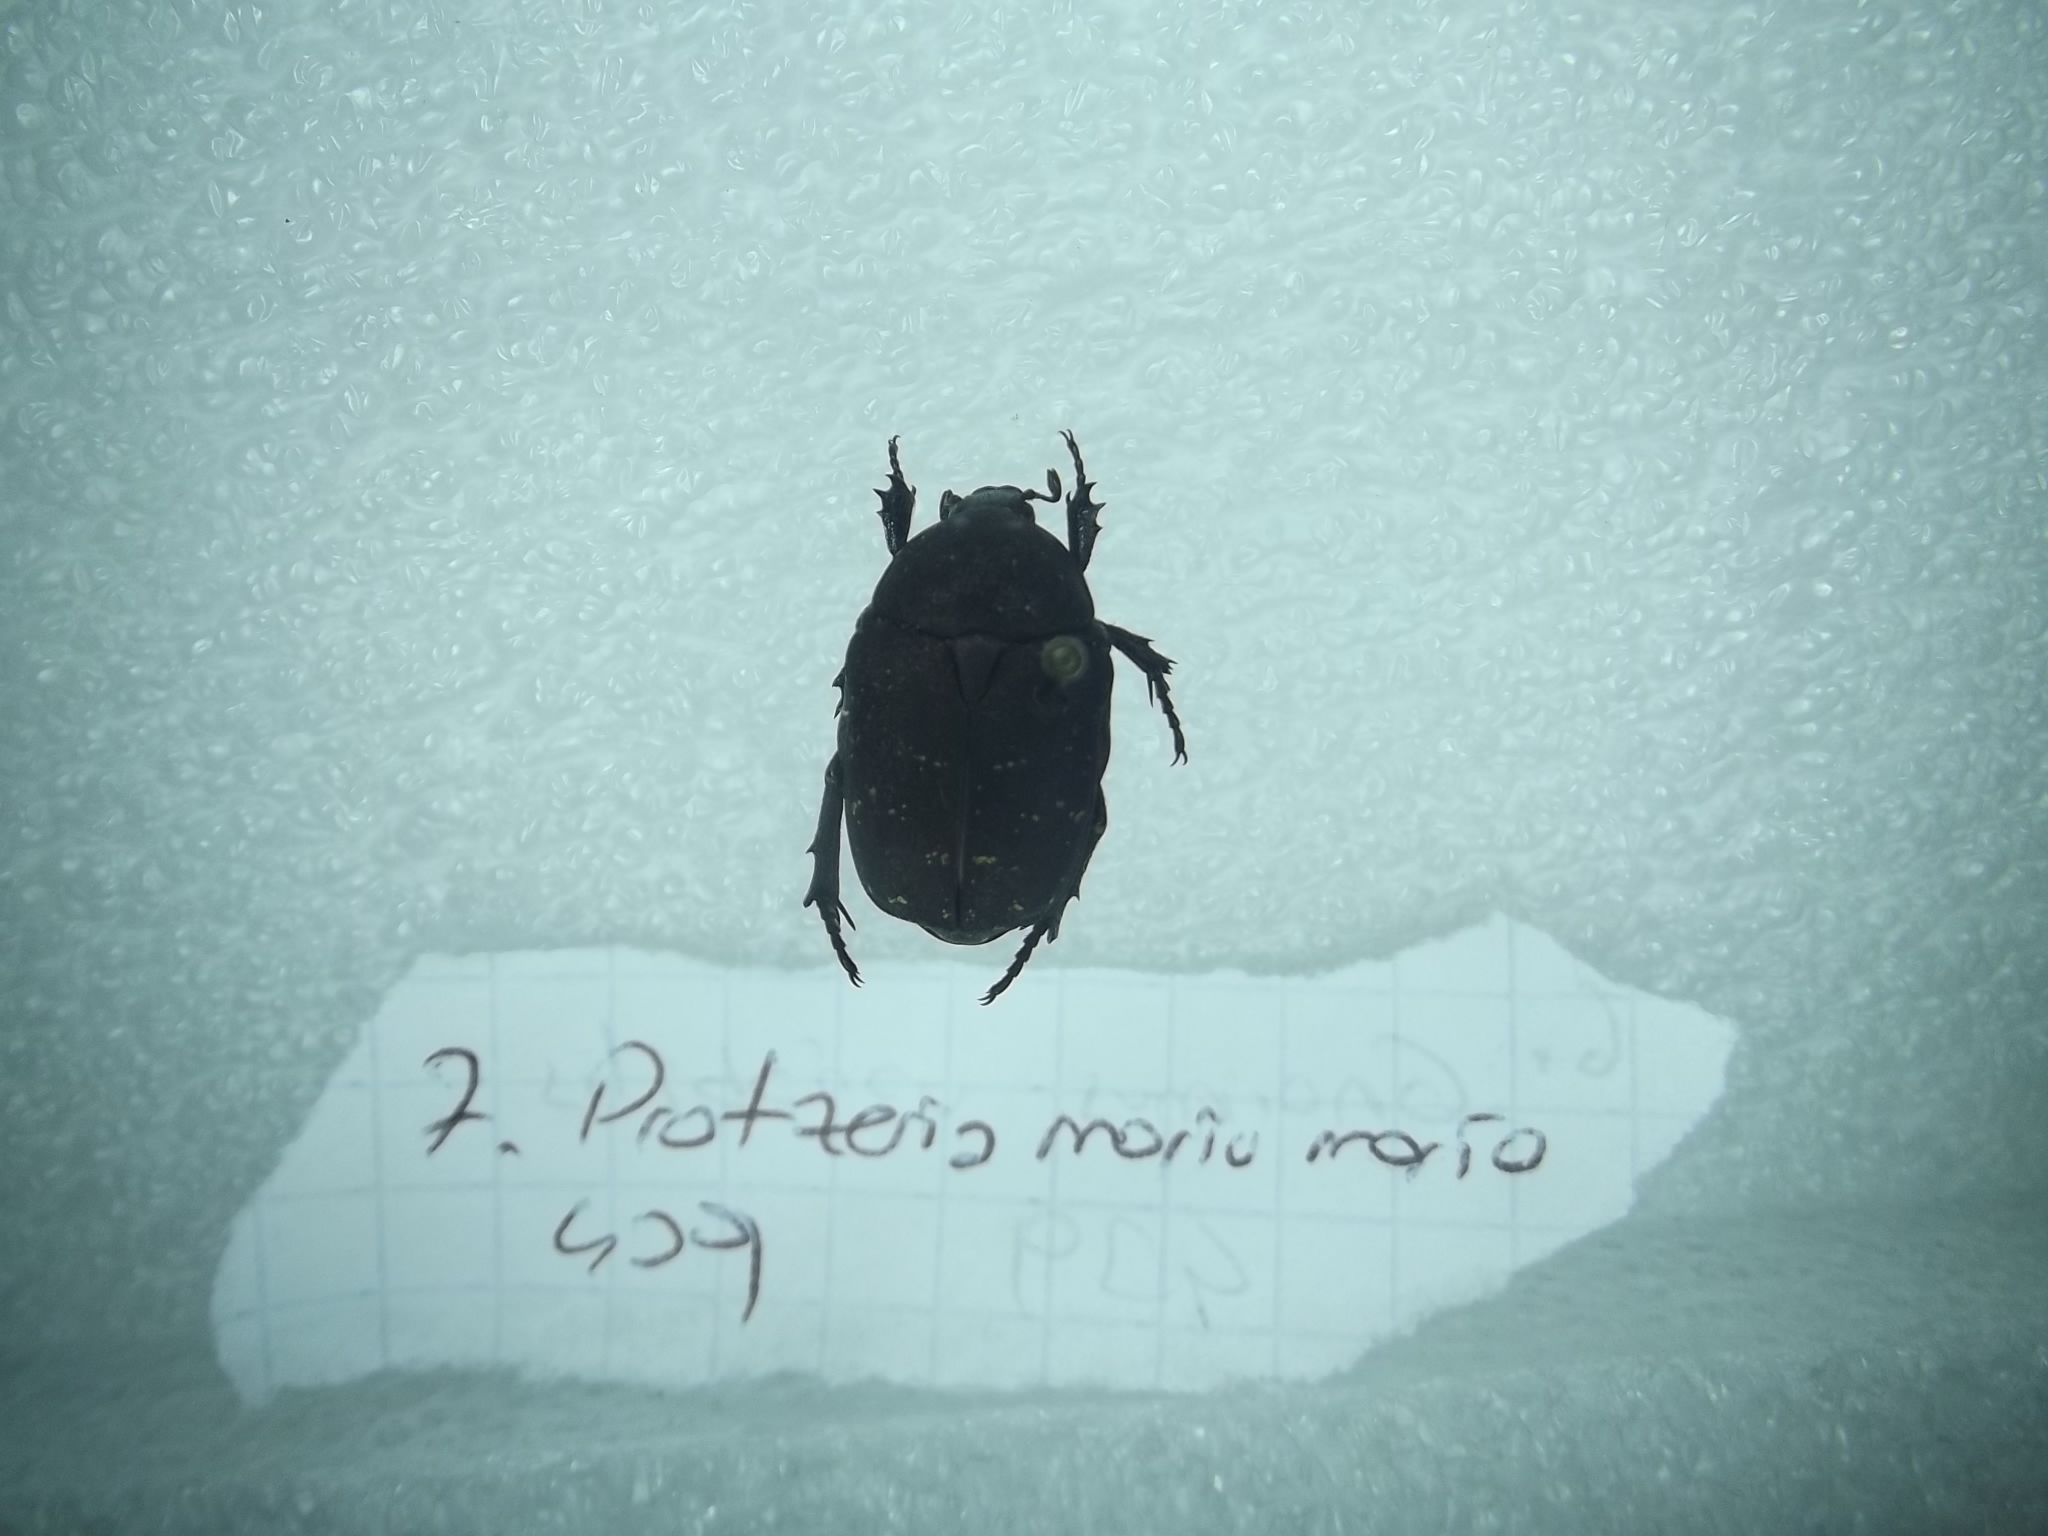Protaetia_morio_morio: (798, 407, 1190, 1005)
